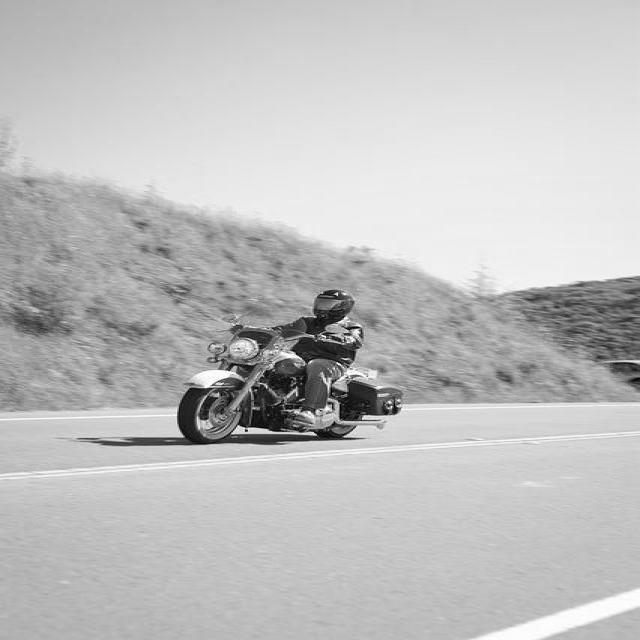vehicle: (182, 309, 418, 441), (596, 360, 640, 385)
